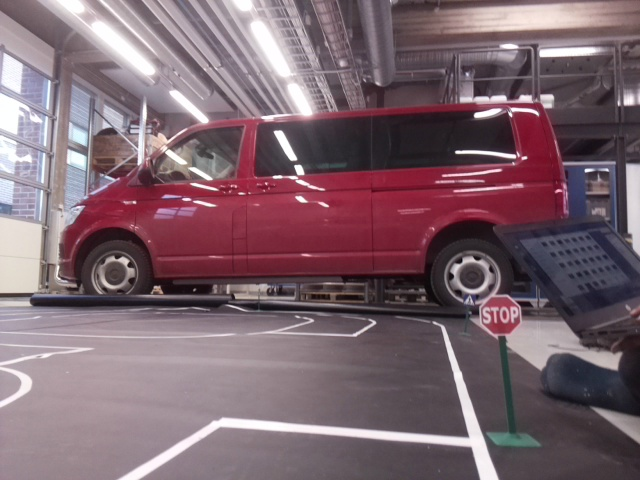Crosswalk: (463, 293, 475, 308)
Stop: (480, 297, 522, 335)
